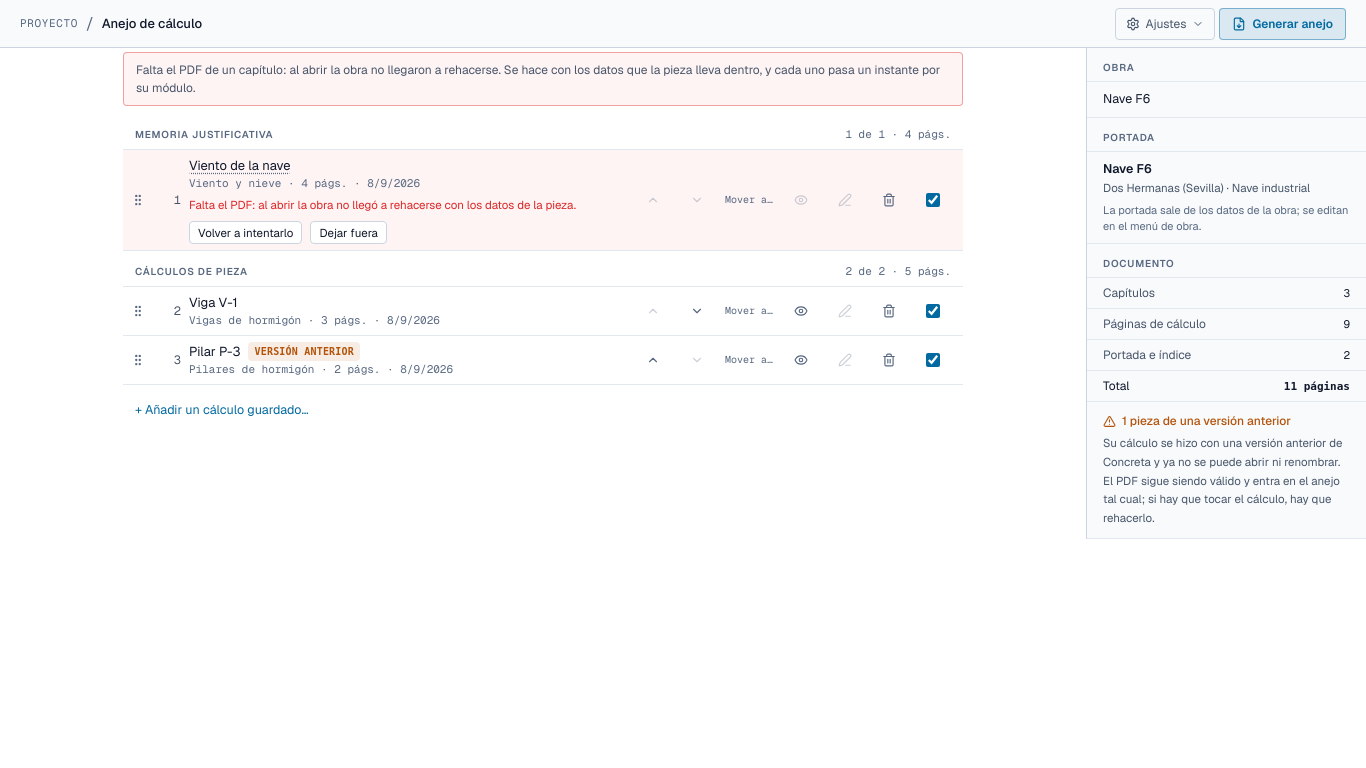
Test case: Anejo de cálculo › una pieza sin PDF en esta máquina: fila roja con el motivo, rehacerla y «Dejar fuera»
Expected: the text "Falta el PDF" is shown, [189,196,576,212]
Expected: the button "Volver a intentarlo" is shown, [189,221,302,244]
What coordinates should you click on to do the following:
click the button "Dejar fuera"
I would click on:
 (349, 232)
Its box is [310,221,387,244].
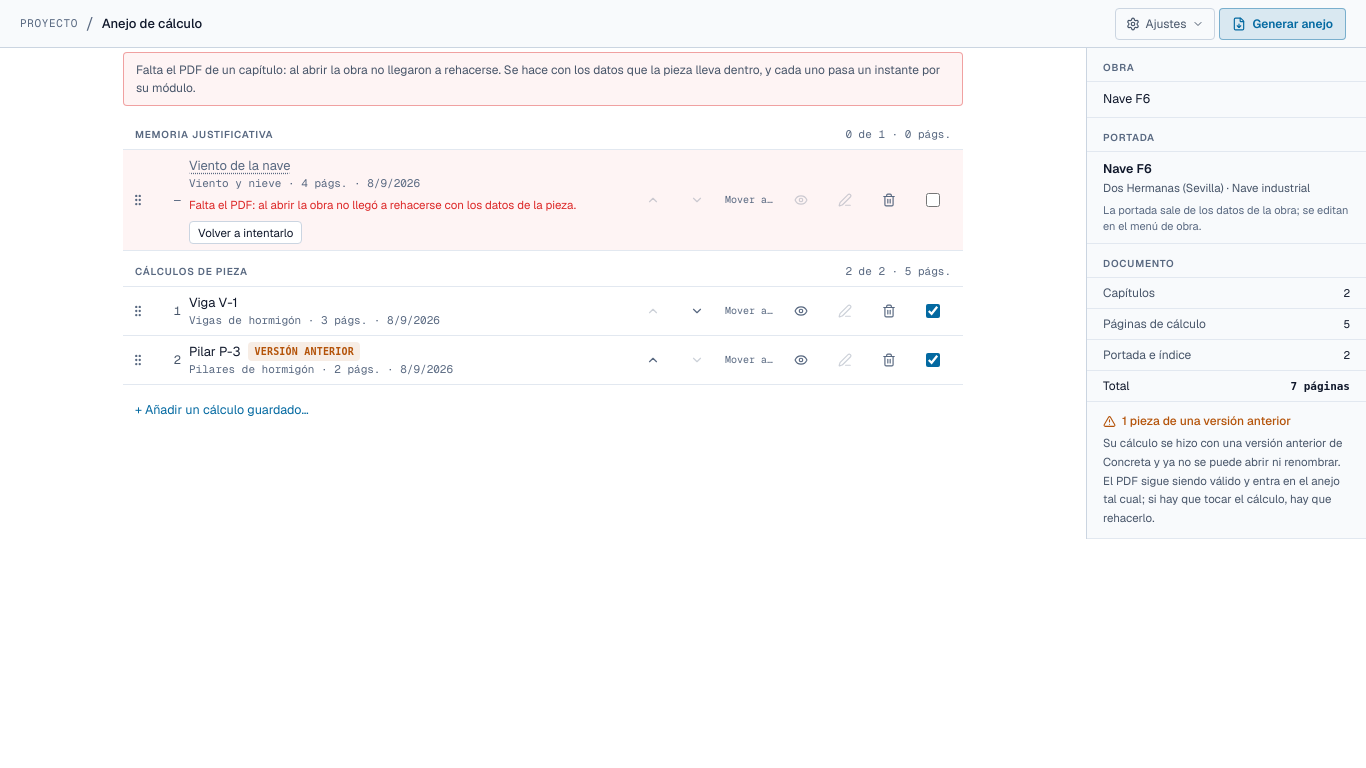
Expected: the button "Dejar fuera" is gone
